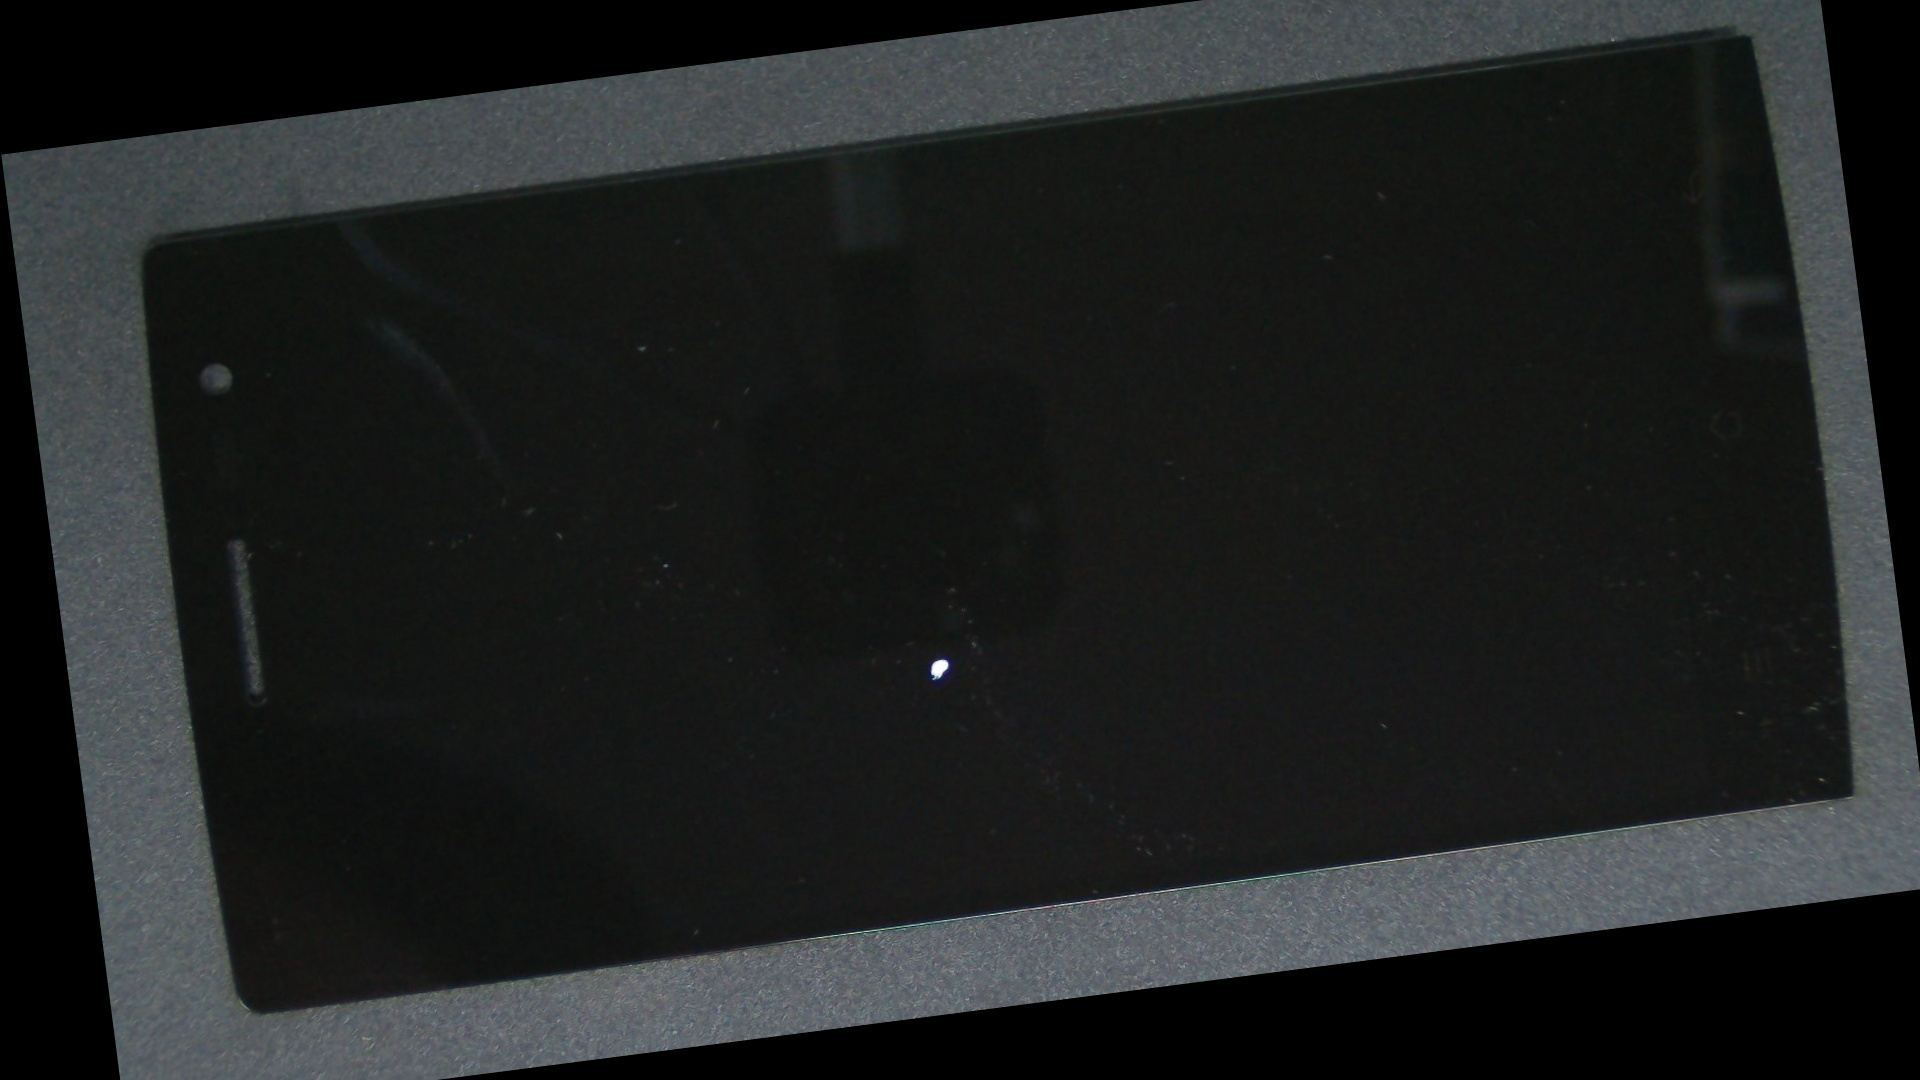oil: (471, 295, 1408, 1021)
